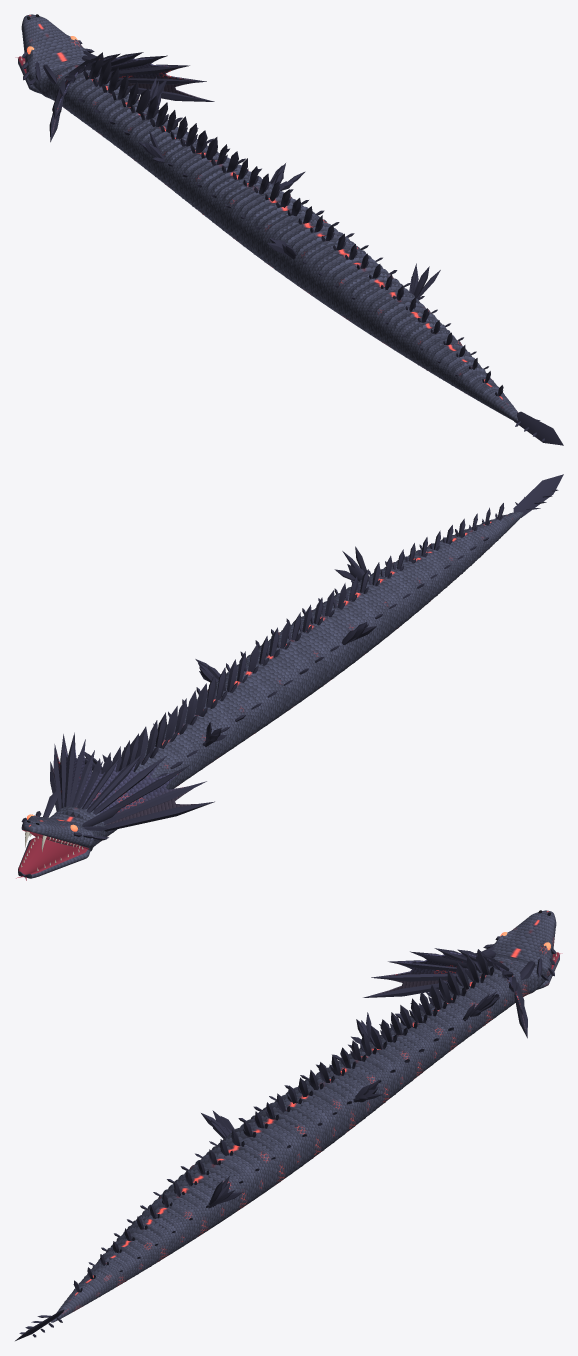
File: RiftSerpent_Flat_Small.glb
3 views of the same model, one above another, from view 1: azimuth 30°, elevation 25°; view 2: azimuth 150°, elevation 25°; view 3: azimuth 330°, elevation 25° (orthographic).
Visible parts, largest first — view 1: SK_Serpent_Flat_Small; view 2: SK_Serpent_Flat_Small; view 3: SK_Serpent_Flat_Small.
Part boxes in pixels (box(x1,y1,x2,y2)): SK_Serpent_Flat_Small: box(15, 14, 563, 445); SK_Serpent_Flat_Small: box(16, 474, 563, 880); SK_Serpent_Flat_Small: box(15, 910, 562, 1340).
Size of the model in its own units: 0.3519 by 0.1354 by 2.
Materials: 9 (3 with a texture image).
